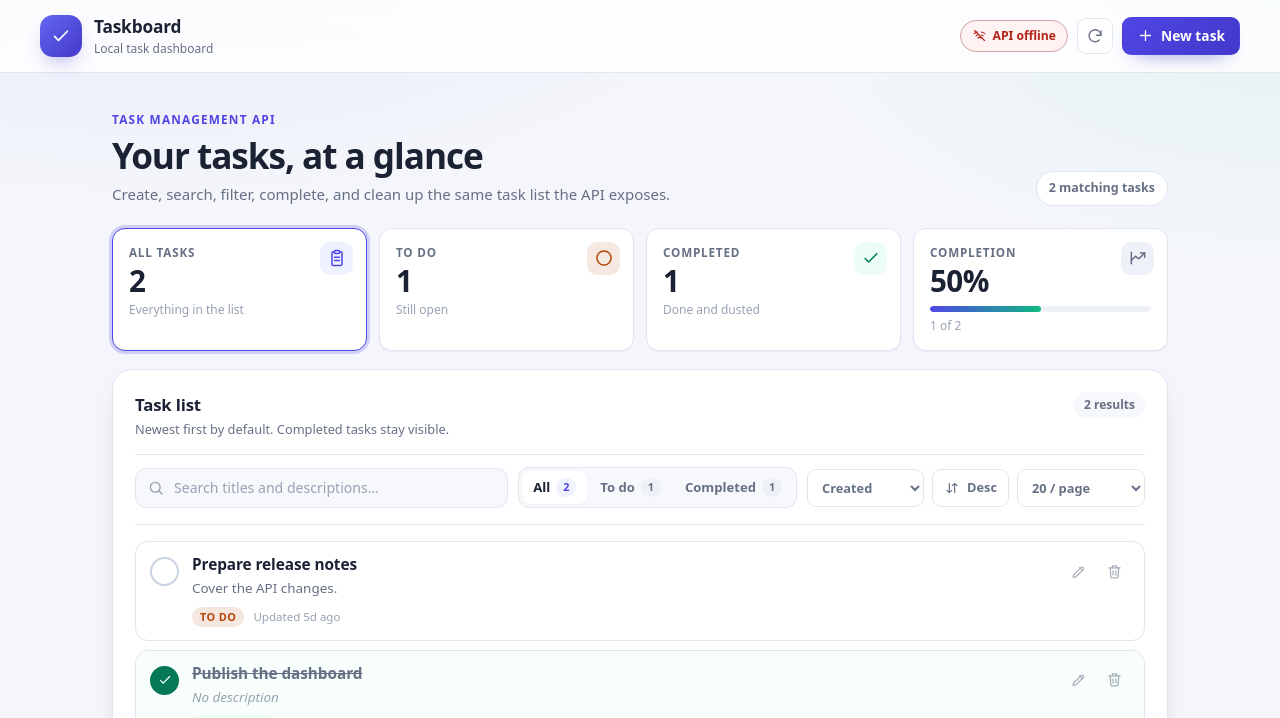
Test case: App › filters the list by status
This screenshot has width=1280, height=718.
Expected: the heading "Prepare release notes" is shown, [192,554,357,575]
Click the button "To do 1" at coordinates (631, 488), box [589,471,672,504]
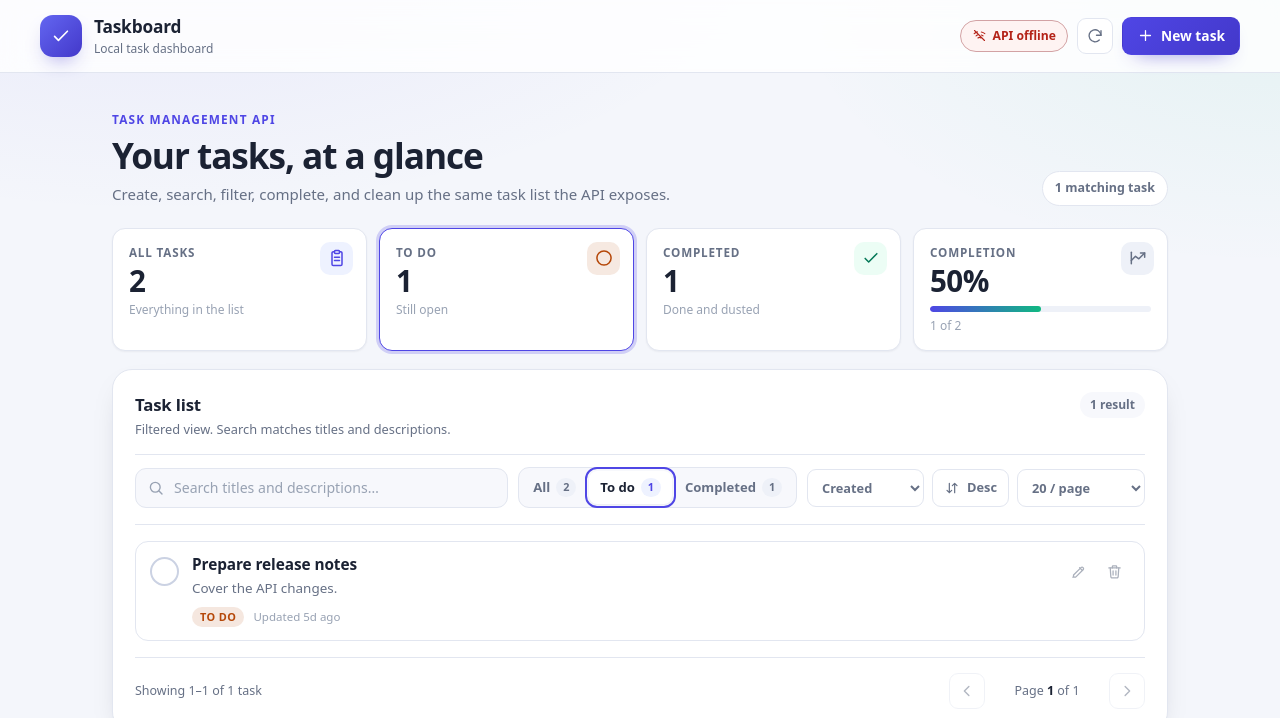
Result: the heading "Publish the dashboard" is gone
